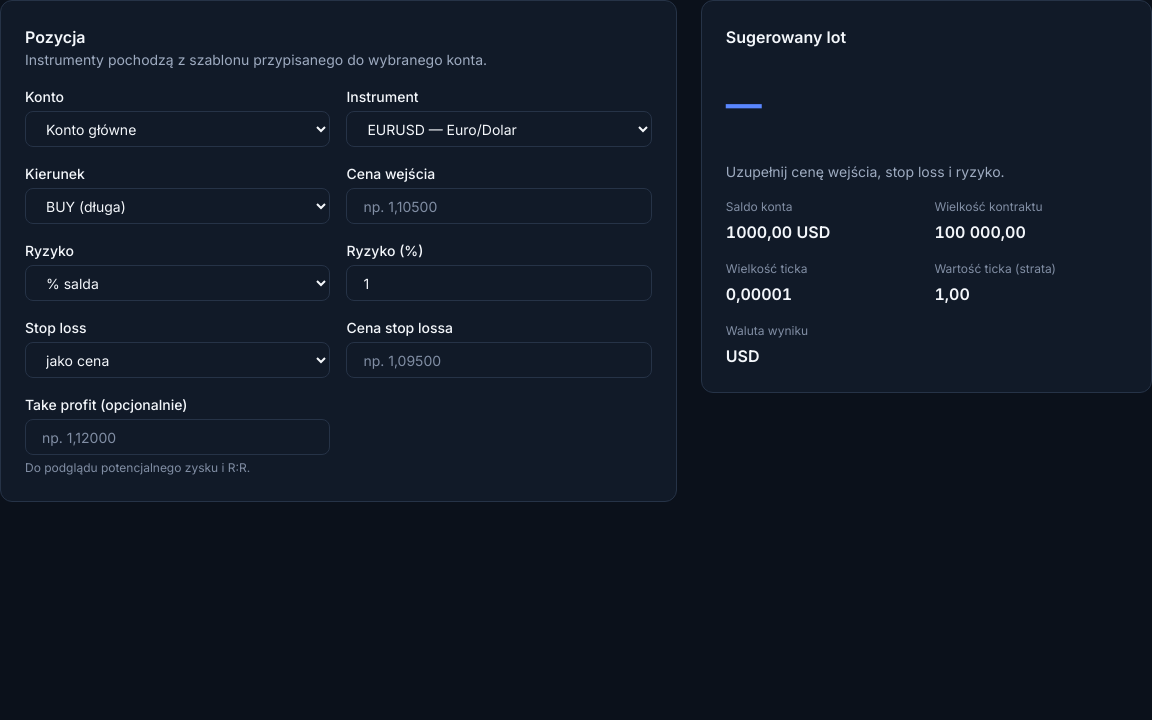
KalkulatorPozycjiPage › ostrzeżenia z backendu renderują się jako lista
The width and height of the screenshot is (1152, 720).
Step 1. Type "1.10500" into the field labelled "Cena wejścia" → (499, 206), box 346,188 -> 652,224
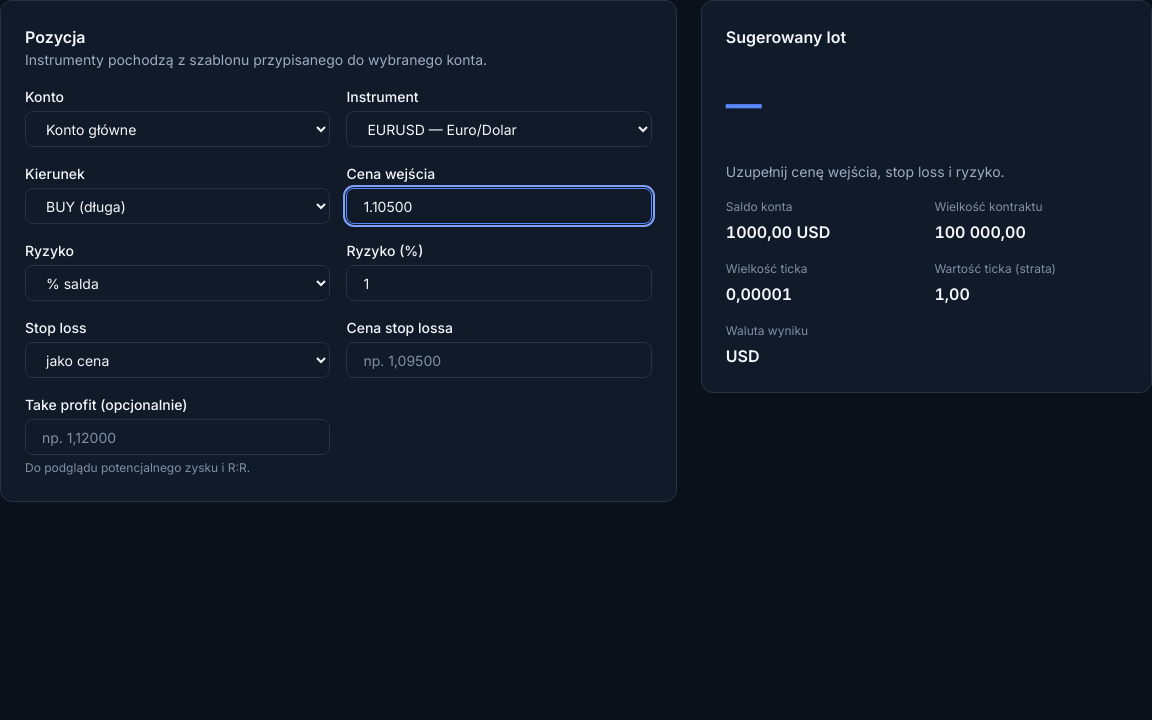
Step 2. Type "200" into the field labelled "Cena stop lossa" → (499, 360), box 346,342 -> 652,378
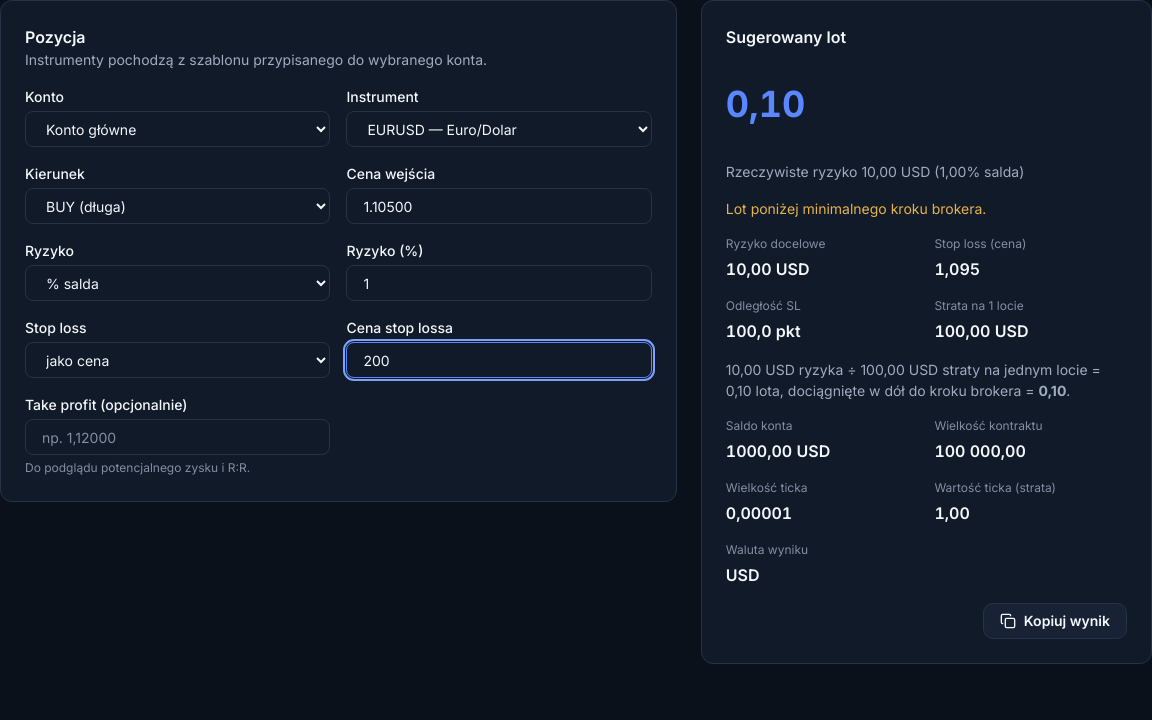
Expected: the text "Lot poniżej minimalnego kroku brokera." is shown, 726,200 -> 986,217
